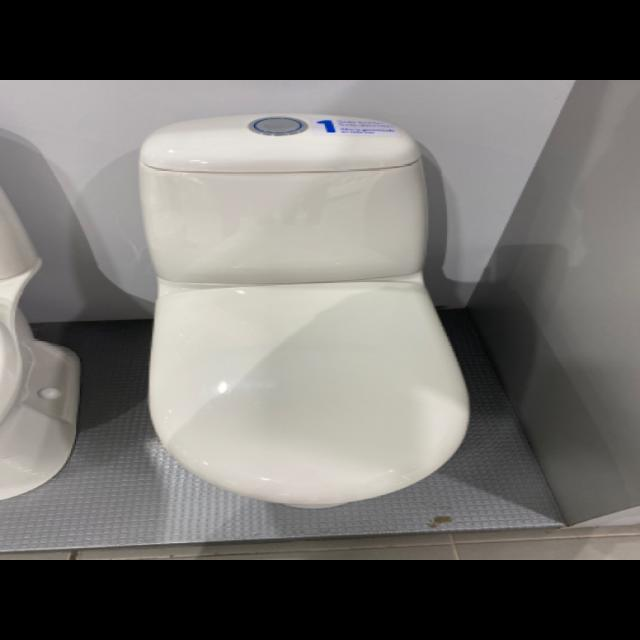toilet: (136, 112, 471, 509), (0, 186, 81, 500)
